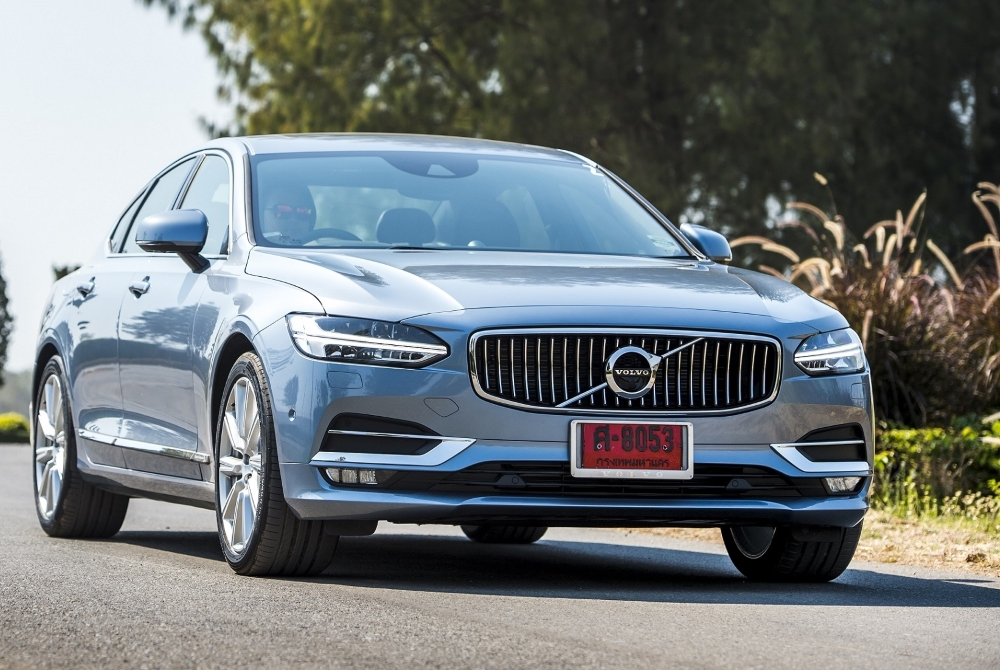sedan: (26, 127, 873, 578)
